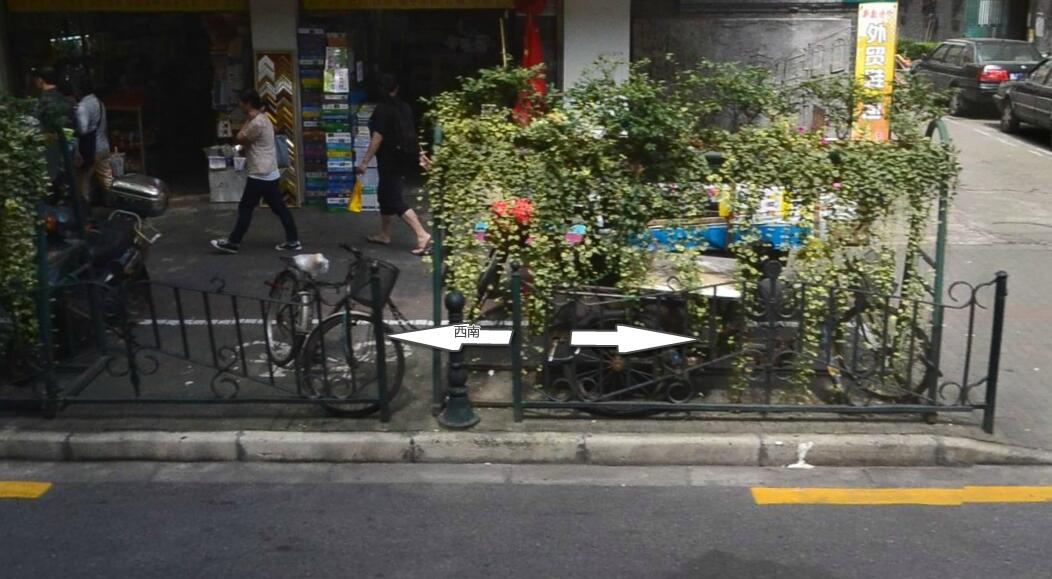side: (759, 434, 938, 468), (583, 432, 761, 466), (236, 432, 413, 464), (412, 432, 584, 464), (67, 432, 238, 462)
